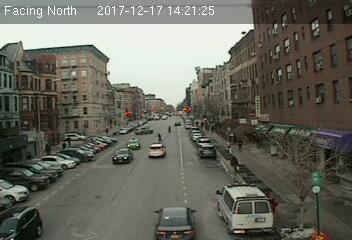car: (151, 203, 198, 240), (111, 148, 134, 165), (148, 143, 167, 159), (126, 137, 142, 151), (200, 145, 216, 157)
police: (214, 180, 274, 234)
